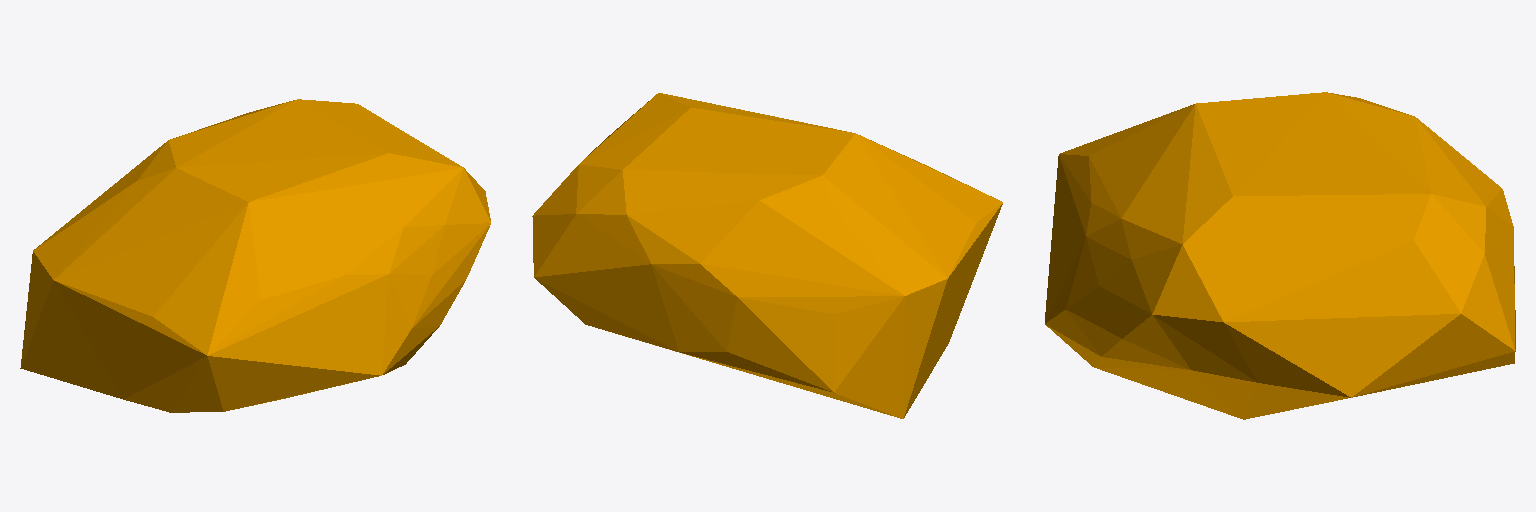
URDF robot description (053_019_2594):
<?xml version="1.0"?>
<robot name="053_019_2594">
  <link name="link">
    <contact>
      <lateral_friction value="0.6"/>
    </contact>
    <inertial>
      <mass value = "0.2118075128061932"/>
      <inertia ixx="5.5610862252407066e-05" ixy="3.0773905359265567e-06" ixz="7.045865397423997e-06" iyy="7.204401634666877e-05" iyz="7.03962364364459e-07" izz="9.88507342096781e-05" />
    </inertial>
    <visual name="visual">
      <geometry>
        <mesh filename="053_019_2594.obj"/>
      </geometry>
    </visual>
    <collision name="collision">
      <geometry>
        <mesh filename="053_019_2594.obj"/>
      </geometry>
    </collision>
  </link>
</robot>

--- What the picture shows (computed from the rendered views, not written in the file) ---
3 views of the same robot in one strip: view 1: azimuth 30°, elevation 25°; view 2: azimuth 150°, elevation 25°; view 3: azimuth 270°, elevation 25° (orthographic).
Model 053_019_2594 with 1 links and 0 joints (none), rooted at link, posed all joints at 0.
Links seen in each view (by area): view 1: link; view 2: link; view 3: link.
Link boxes in pixels (bbox=[...]): link: bbox=[20, 99, 490, 412]; link: bbox=[532, 93, 1002, 418]; link: bbox=[1045, 92, 1515, 419].
Size in the robot's own frame: 0.0724 by 0.0598 by 0.0363 metres.
1 mesh visuals loaded from 1 distinct referenced files (1 OBJ).
